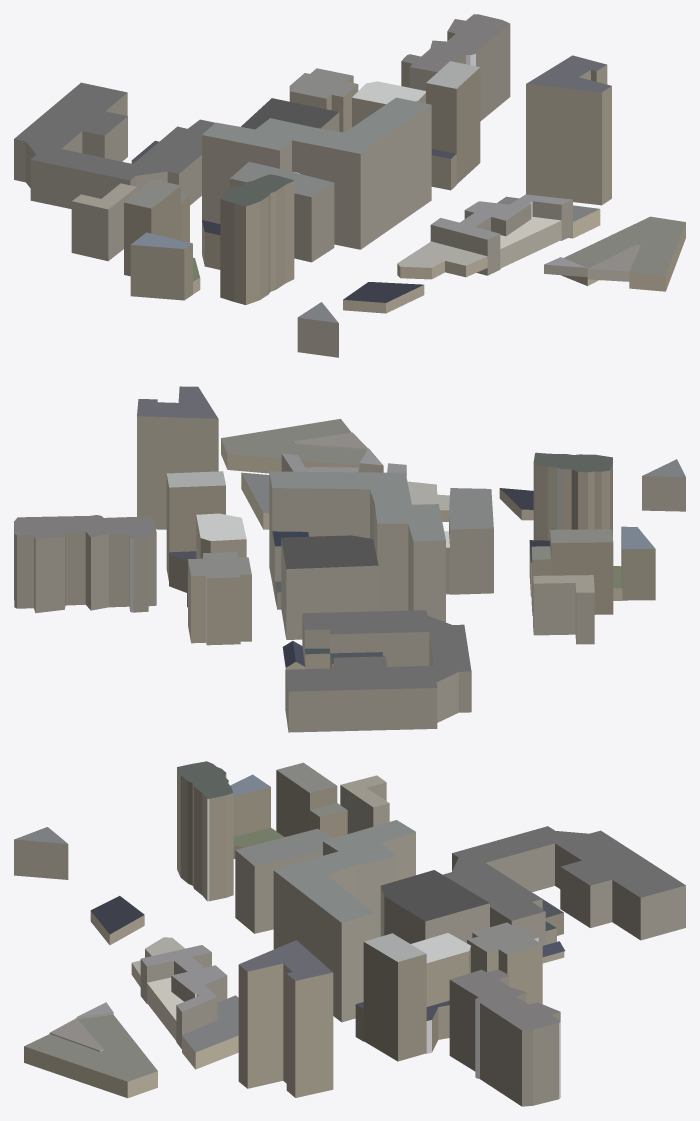
3 views of the same model, one above another, from view 1: azimuth 30°, elevation 25°; view 2: azimuth 150°, elevation 25°; view 3: azimuth 270°, elevation 25° (orthographic). The views are drawn at different scales.
Parts seen in each view (by area): view 1: tuile; view 2: tuile; view 3: tuile.
Part boxes in pixels (x1=…): tuile: x1=14, y1=14, x2=685, y2=357; tuile: x1=14, y1=386, x2=685, y2=732; tuile: x1=14, y1=761, x2=685, y2=1106.
Size of the model in its own units: 285 by 62.99 by 314.
